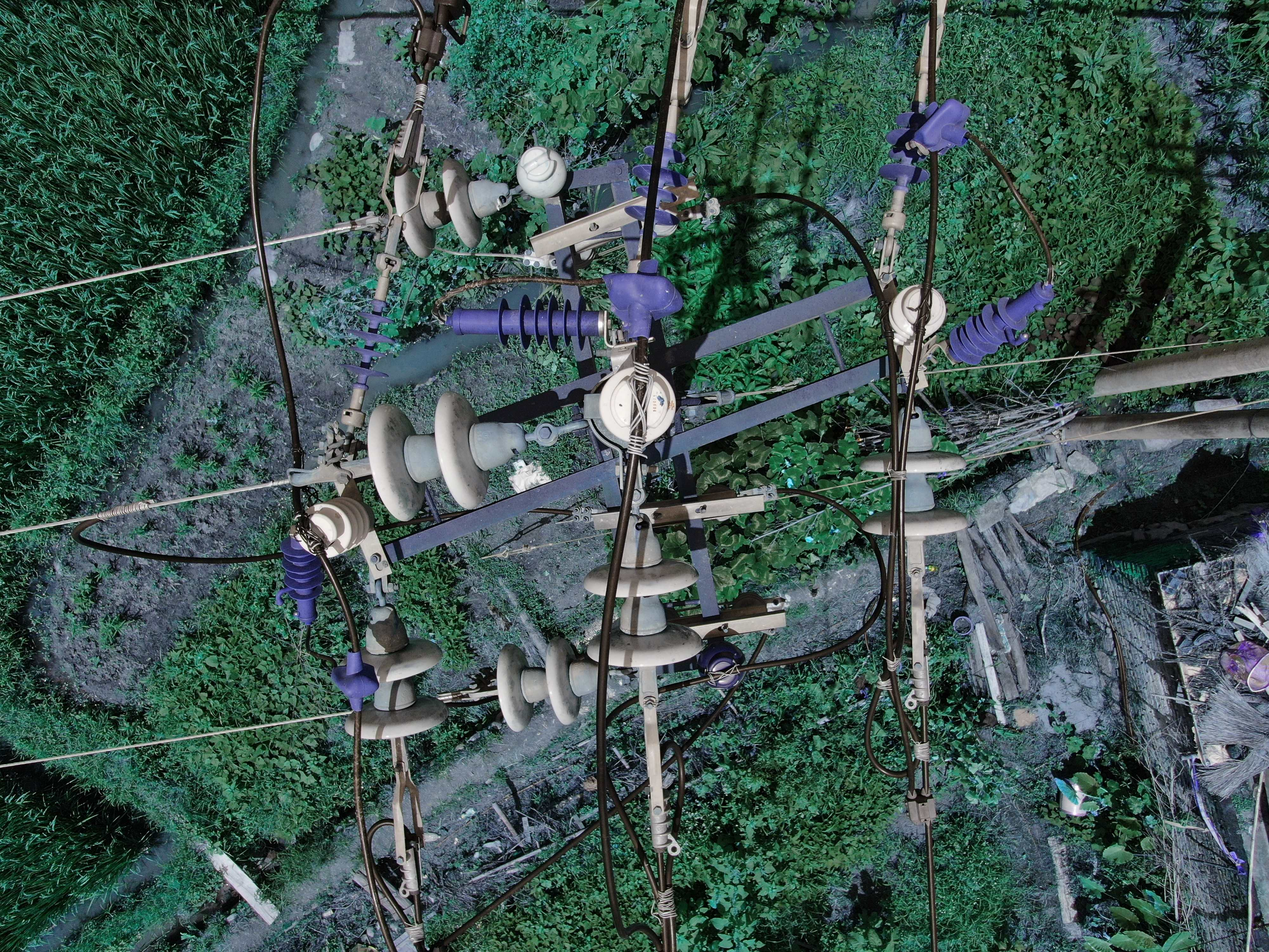severe_soiling_no_discharge_whole: (362, 382, 533, 526), (579, 512, 710, 673), (495, 628, 603, 731)
